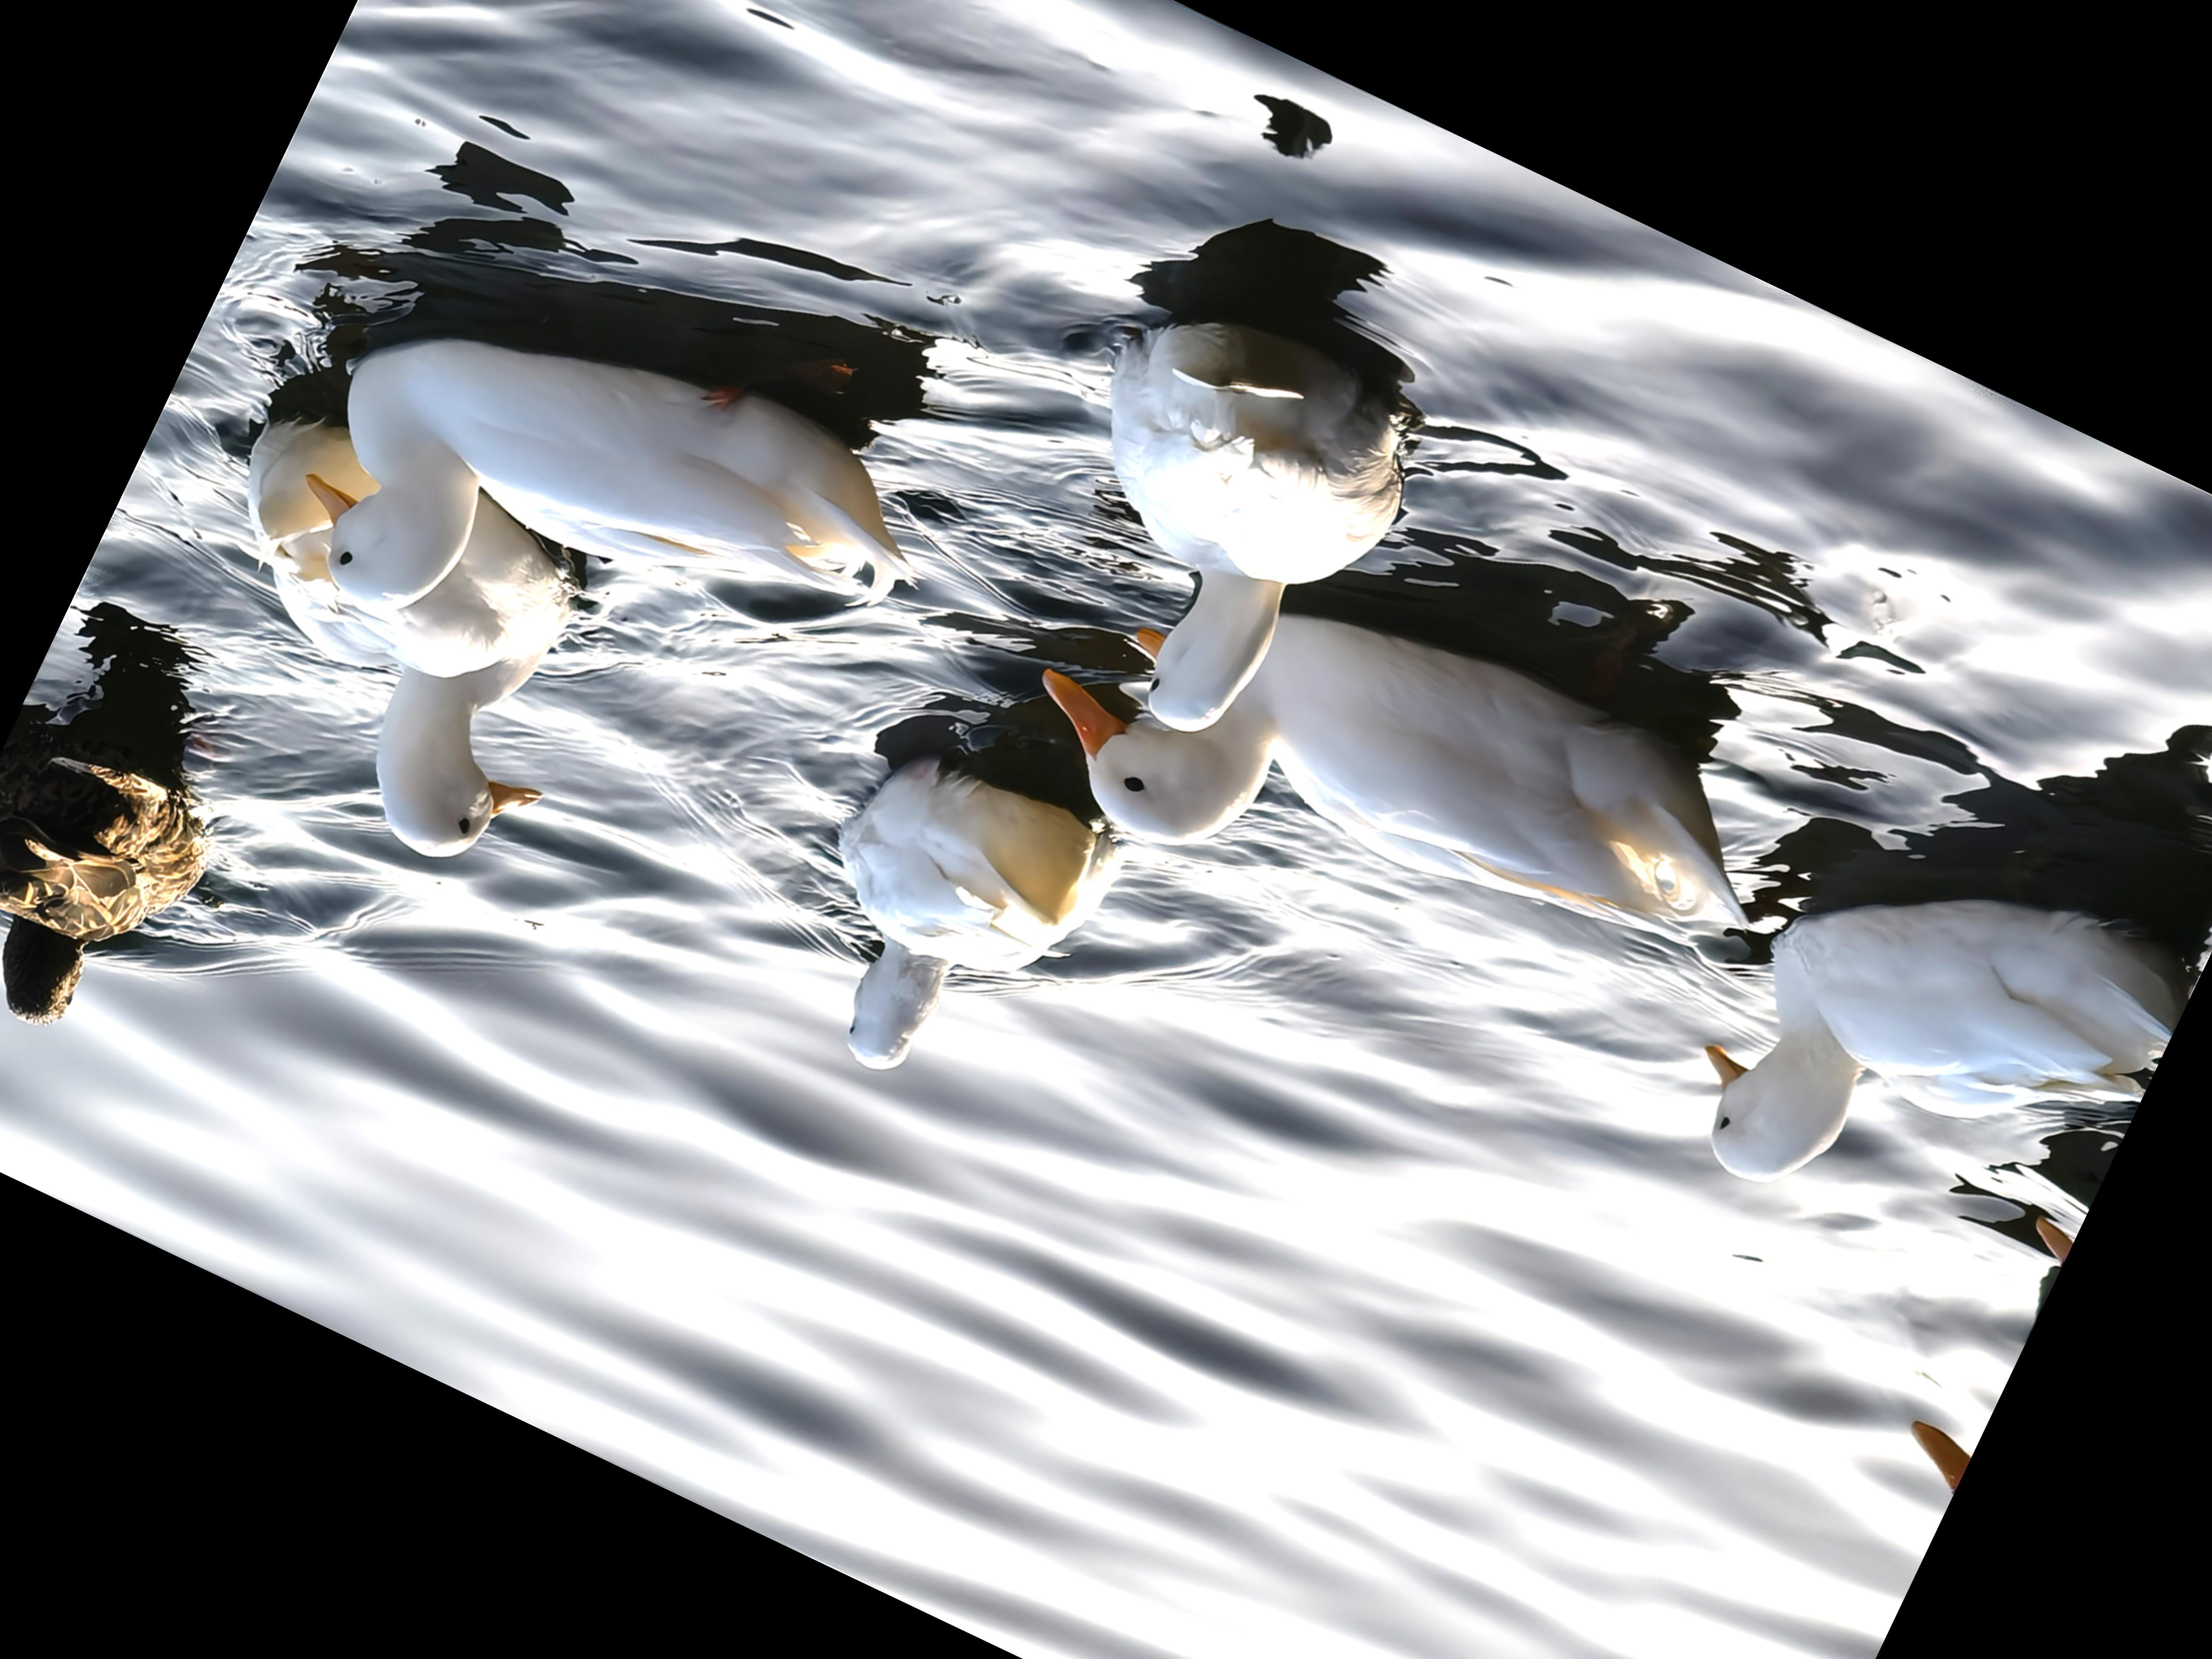duck: (974, 465, 1801, 1094), (242, 197, 961, 816), (80, 387, 691, 938), (1630, 777, 2203, 1338), (949, 235, 1461, 788), (723, 723, 1125, 1147), (0, 681, 233, 1079)
